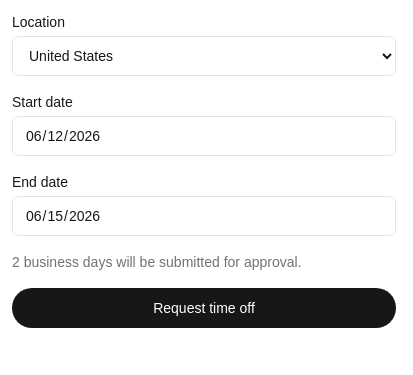
it: TimeOffRequestForm › requires at least three days of advance notice
Step 1. Type "2026-06-07" into the date field labelled "Start date" → (204, 136), box top-left (12, 116), bottom-right (396, 156)
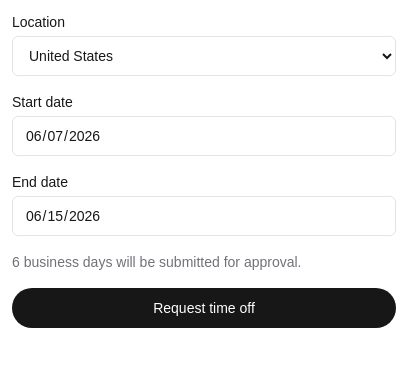
Step 2. Type "2026-06-08" into the date field labelled "End date" → (204, 216), box top-left (12, 196), bottom-right (396, 236)
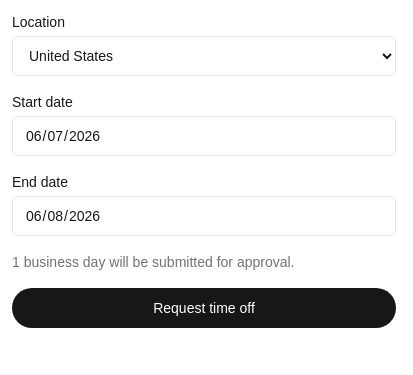
Step 3. Click the button "Request time off" → (204, 308), box top-left (12, 288), bottom-right (396, 328)
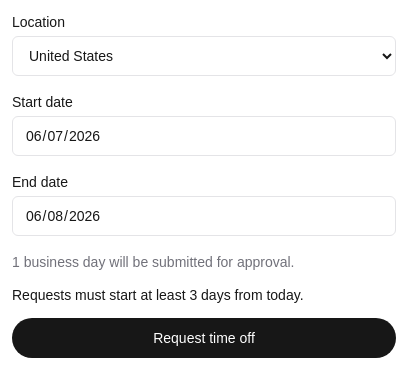
Now the text "Requests must start at least 3 days from today." is shown, box top-left (12, 287), bottom-right (304, 303)
